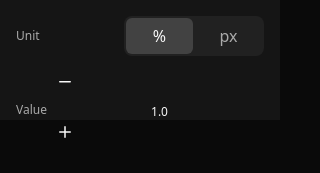
it: UnitInput Component › Minus Sign Handling › should remove multiple minus signs
Replace the text in the field with "-12-34-" at (160, 112), box [55,102,264,122]
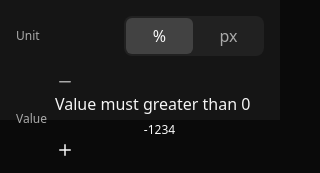
Check: the field holds "-1234", box [55,120,264,140]
